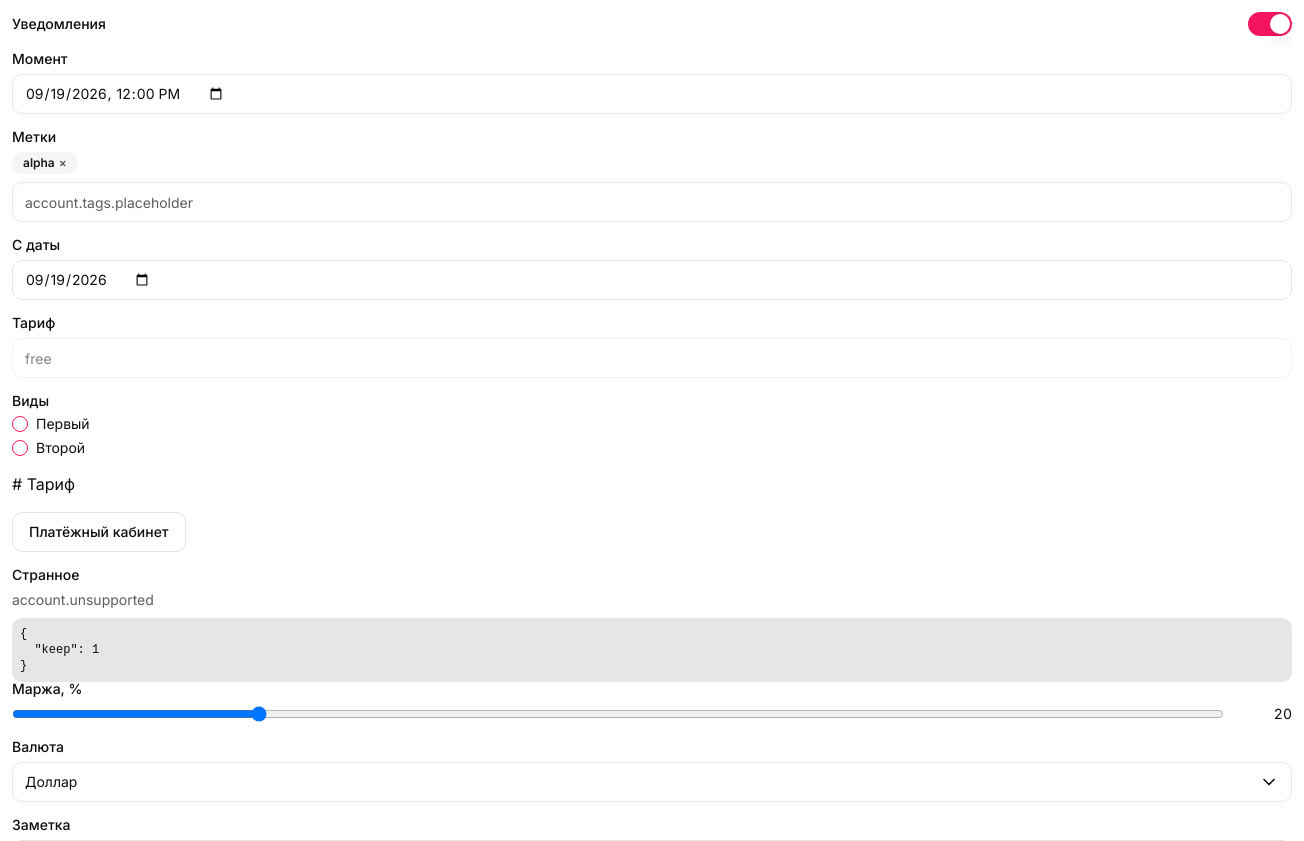
Test: SchemaForm › changes a select and labels its options with x-enum-labels
Press ArrowDown in the dropdown named "Валюта", box left=12, top=762, right=1292, bottom=802
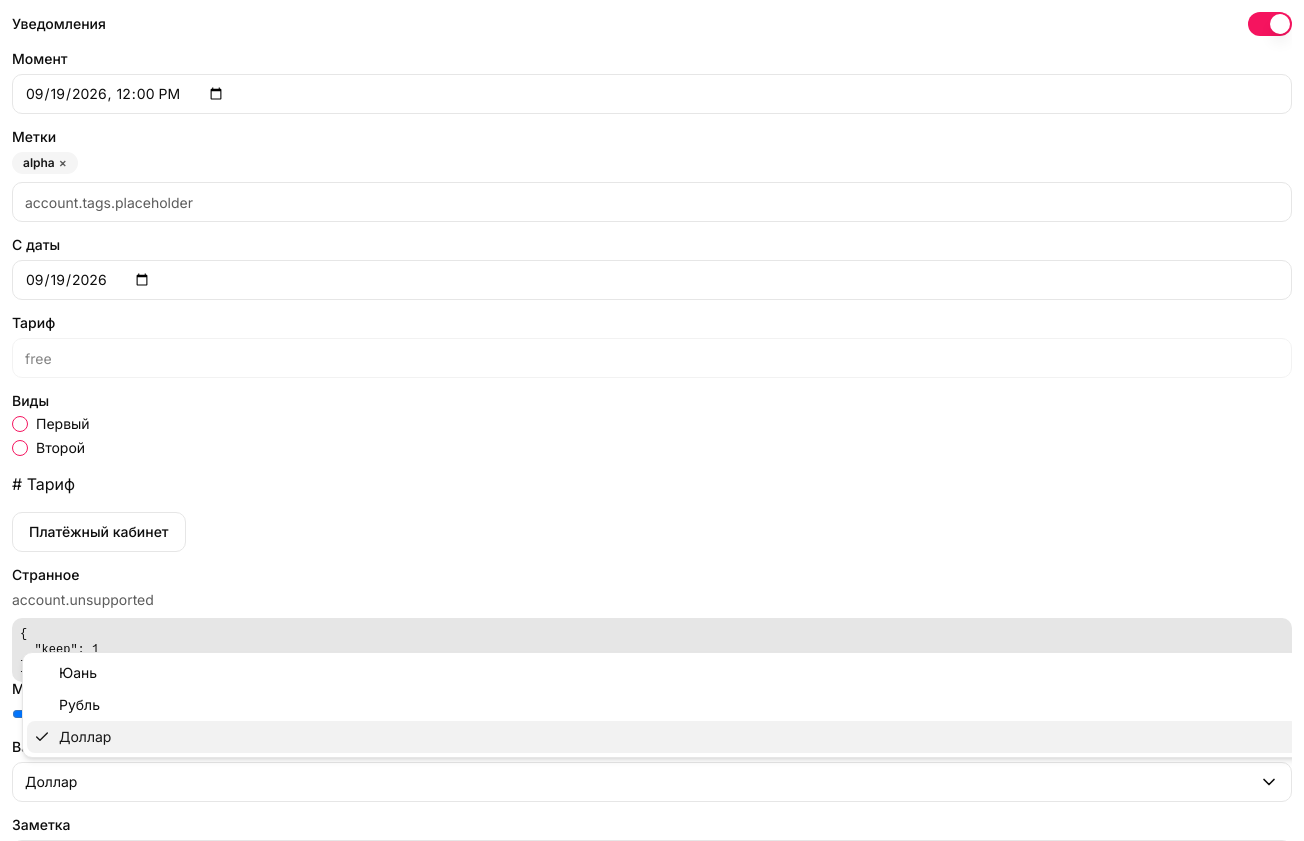
Click the option "Рубль" at (80, 704), box left=59, top=696, right=100, bottom=713
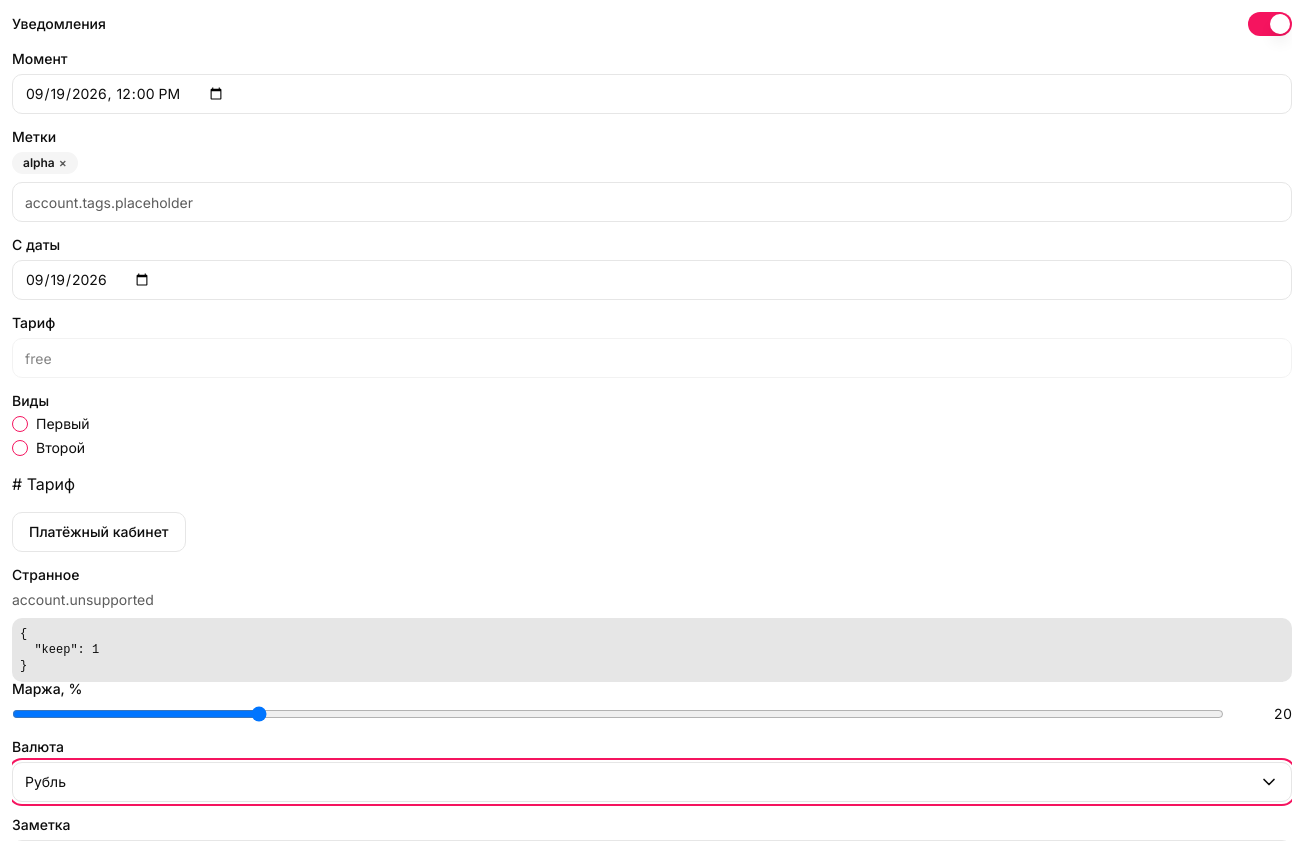
Result: the dropdown named "Валюта" reads "Рубль" at left=12, top=762, right=1292, bottom=802
